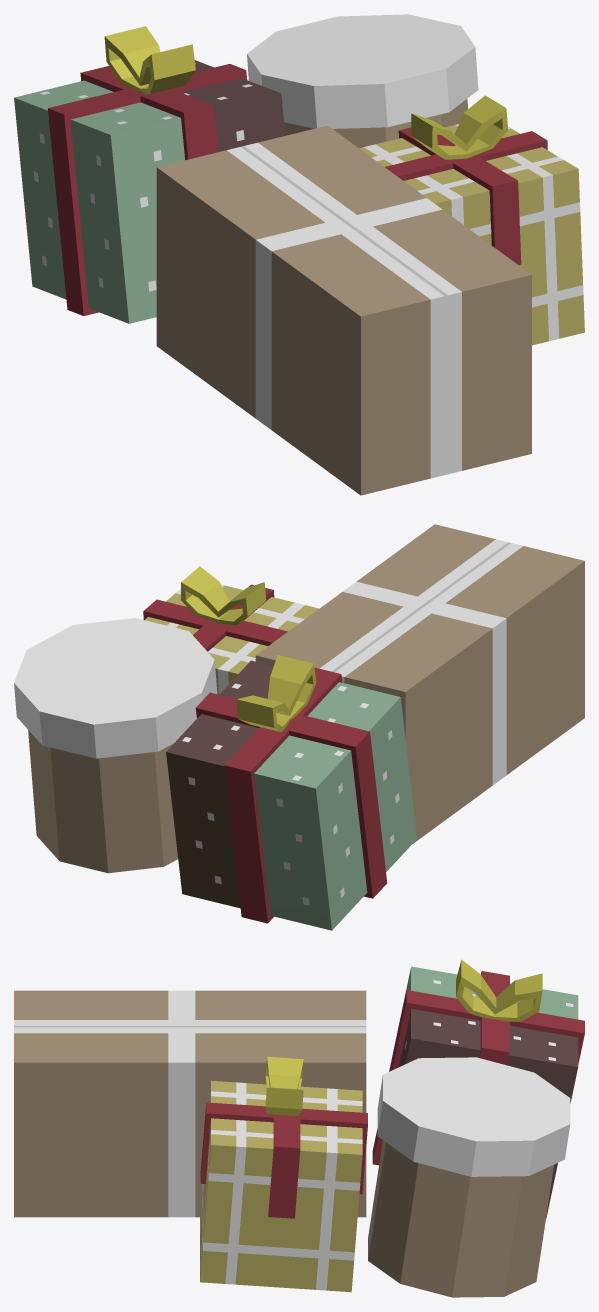
Rendered from Cumulo de regalos 1.fbx.
3 views of the same model, one above another, from view 1: azimuth 30°, elevation 25°; view 2: azimuth 150°, elevation 25°; view 3: azimuth 270°, elevation 25° (orthographic). The views are drawn at different scales.
Visible parts, largest first — view 1: Caja_de_compra_4, fes_Caja_tipo_4, Caja_circular2, fes_Caja_tipo_3, Moñito_4, Moñito_3; view 2: Caja_de_compra_4, fes_Caja_tipo_4, Caja_circular2, fes_Caja_tipo_3, Moñito_4, Moñito_3; view 3: Caja_de_compra_4, Caja_circular2, fes_Caja_tipo_3, fes_Caja_tipo_4, Moñito_4, Moñito_3.
Part boxes in pixels (x1,y1,x2,y2): Caja_de_compra_4: (156, 125, 531, 495); fes_Caja_tipo_4: (14, 60, 285, 323); Caja_circular2: (247, 14, 478, 148); fes_Caja_tipo_3: (359, 124, 584, 345); Moñito_4: (104, 26, 195, 93); Moñito_3: (411, 95, 508, 159); Caja_de_compra_4: (255, 524, 584, 844); fes_Caja_tipo_4: (166, 660, 416, 930); Caja_circular2: (14, 618, 217, 873); fes_Caja_tipo_3: (143, 584, 318, 694); Moñito_4: (236, 655, 316, 731); Moñito_3: (181, 566, 266, 625); Caja_de_compra_4: (14, 990, 366, 1217); Caja_circular2: (368, 1057, 570, 1297); fes_Caja_tipo_3: (200, 1080, 367, 1292); fes_Caja_tipo_4: (372, 966, 584, 1218); Moñito_4: (456, 959, 542, 1021); Moñito_3: (265, 1056, 303, 1116).
Bounding box in the file's own units: 0.4908 × 0.3074 × 0.7135.
